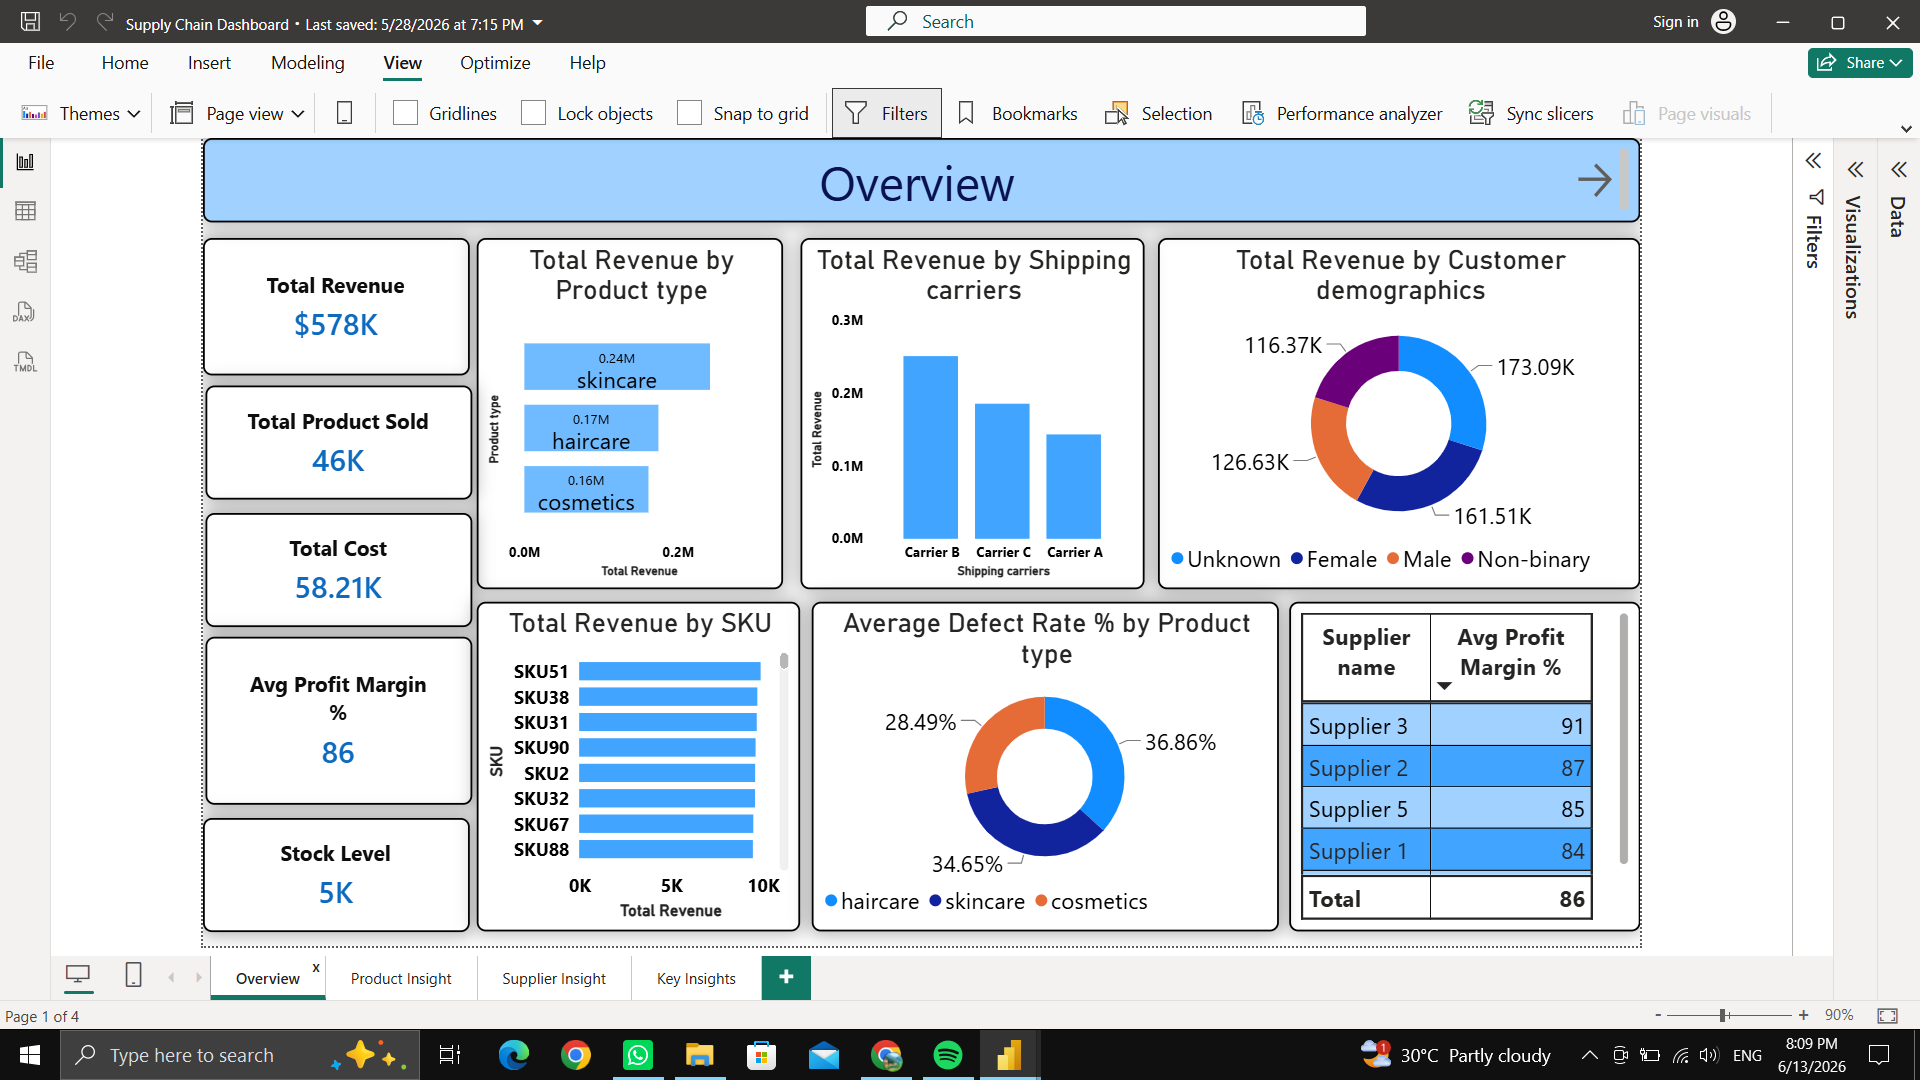

Layout of this report page (visuals, bound fields, positions):
{"tool":"powerbi","page":{"name":"Overview","canvas":[1280,720],"ordinal":0},"visuals":[{"type":"cardVisual","title":"Total Revenue","fields":{"Data":["supply_chain_data.Total Revenue"]},"box":[0,89.2,237.4,122.1],"z":0},{"type":"donutChart","fields":{"Y":["supply_chain_data.Total Revenue"],"Category":["supply_chain_data.Customer demographics"]},"box":[850.8,89.2,429.5,312.9],"z":1000},{"type":"clusteredBarChart","fields":{"Y":["supply_chain_data.Total Revenue"],"Category":["supply_chain_data.Product type"]},"box":[244.3,89.2,273.1,312.9],"z":2000},{"type":"tableEx","fields":{"Values":["supply_chain_data.Supplier name","supply_chain_data.Avg Profit Margin %"]},"box":[967.4,413,312.9,293.7],"z":3000},{"type":"cardVisual","title":"Total Revenue","fields":{"Data":["supply_chain_data.Total Product Sold"]},"box":[2.7,220.9,237.4,101.5],"z":4000},{"type":"cardVisual","title":"Total Revenue","fields":{"Data":["supply_chain_data.Total Cost"]},"box":[2.7,333.4,237.4,101.5],"z":5000},{"type":"cardVisual","title":"Total Revenue","fields":{"Data":["supply_chain_data.Avg Profit Margin %"]},"box":[2.7,444.6,237.4,149.6],"z":6000},{"type":"cardVisual","title":"Total Revenue","fields":{"Data":["supply_chain_data.Stock Level"]},"box":[0,605.1,237.4,101.5],"z":7000},{"type":"clusteredBarChart","fields":{"Y":["supply_chain_data.Total Revenue"],"Category":["supply_chain_data.SKU"]},"box":[244.3,413,288.2,293.7],"z":8000},{"type":"clusteredColumnChart","fields":{"Category":["supply_chain_data.Shipping carriers"],"Y":["supply_chain_data.Total Revenue"]},"box":[532.4,89.2,306,312.9],"z":9000},{"type":"donutChart","fields":{"Y":["supply_chain_data.Average Defect Rate %"],"Category":["supply_chain_data.Product type"]},"box":[542,413,415.8,293.7],"z":10000},{"type":"textbox","box":[0,0,1280.3,75.5],"z":11000},{"type":"actionButton","box":[1218.5,17.8,48,39.8],"z":12000}]}

Visuals, with their boxes on the page's 1280x720 design canvas (x1, y1, x2, y2). These are canvas units, not pixel positions in the 1920x1080 screenshot, which may show the page scaled, cropped or inside an application window:
"Total Revenue" cardVisual: left=0, top=89, right=237, bottom=211
donutChart - supply_chain_data.Total Revenue x supply_chain_data.Customer demographics: left=851, top=89, right=1280, bottom=402
clusteredBarChart - supply_chain_data.Total Revenue x supply_chain_data.Product type: left=244, top=89, right=517, bottom=402
tableEx - supply_chain_data.Supplier name x supply_chain_data.Avg Profit Margin %: left=967, top=413, right=1280, bottom=707
"Total Revenue" cardVisual: left=3, top=221, right=240, bottom=322
"Total Revenue" cardVisual: left=3, top=333, right=240, bottom=435
"Total Revenue" cardVisual: left=3, top=445, right=240, bottom=594
"Total Revenue" cardVisual: left=0, top=605, right=237, bottom=707
clusteredBarChart - supply_chain_data.Total Revenue x supply_chain_data.SKU: left=244, top=413, right=532, bottom=707
clusteredColumnChart - supply_chain_data.Shipping carriers x supply_chain_data.Total Revenue: left=532, top=89, right=838, bottom=402
donutChart - supply_chain_data.Average Defect Rate % x supply_chain_data.Product type: left=542, top=413, right=958, bottom=707
textbox: left=0, top=0, right=1280, bottom=76
actionButton: left=1218, top=18, right=1266, bottom=58
